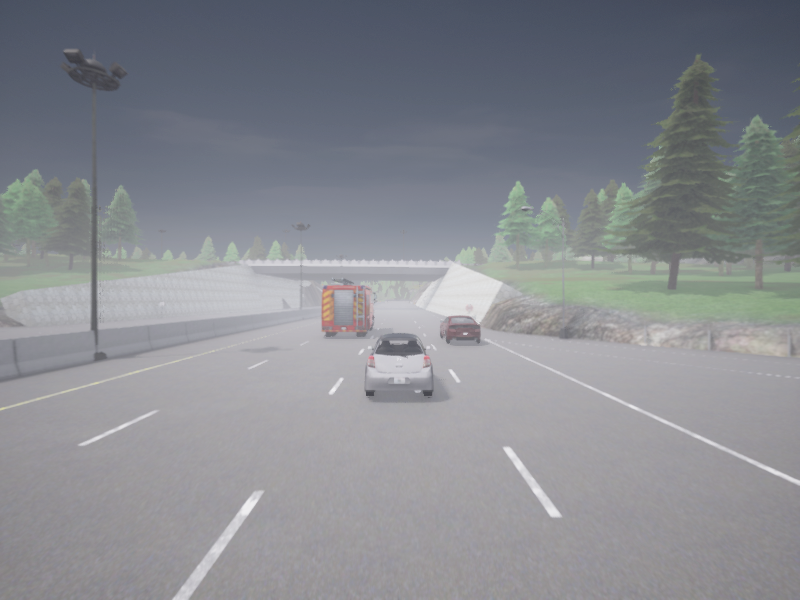vehicle: (365, 333, 432, 397), (321, 278, 376, 335), (440, 315, 480, 342)
